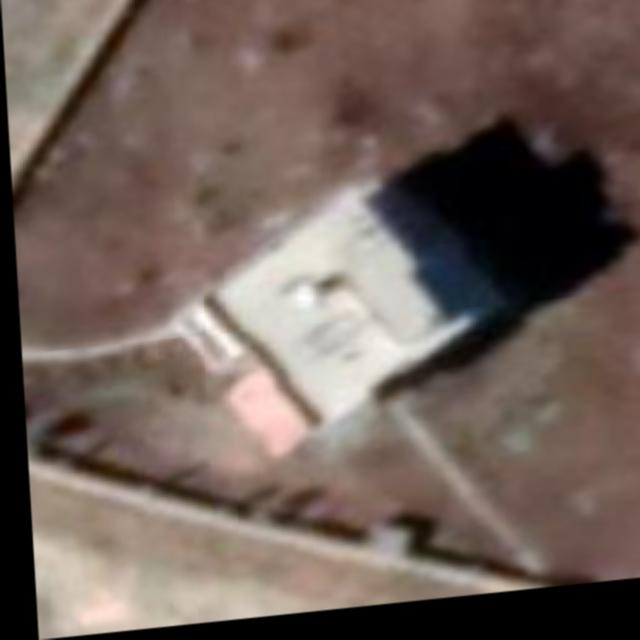Batiment: (205, 192, 468, 431)
